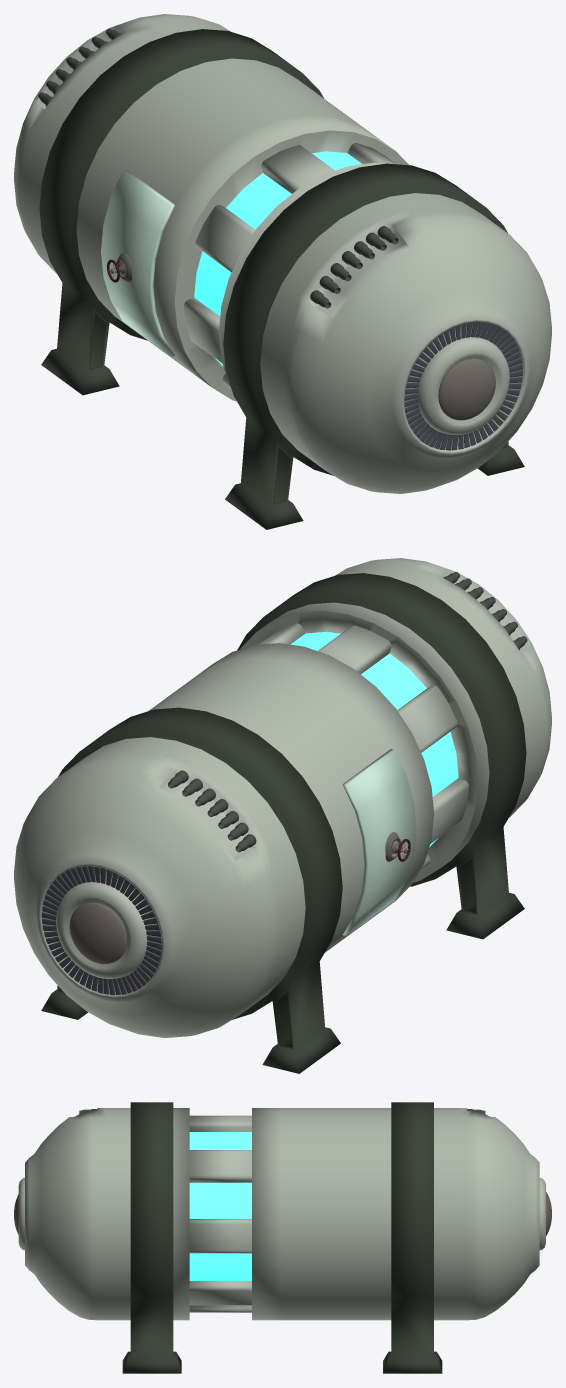
The model's file is ChemicalReactor.fbx.
3 renders of one model, top to bottom at view 1: azimuth 30°, elevation 25°; view 2: azimuth 150°, elevation 25°; view 3: azimuth 270°, elevation 25°, orthographic. The views are drawn at different scales.
Visible parts, largest first — view 1: Cylinder, Cylinder.008, Cylinder.016, Cube.005, Cylinder.015, Sphere.001, Cylinder.014; view 2: Cylinder, Cylinder.008, Cylinder.016, Cube.004, Cylinder.015, Sphere.001, Cylinder.014; view 3: Cylinder, Cylinder.008, Cylinder.015, Sphere.001.
Boxes of the visible parts, left/top/right/bottom form: Cylinder: left=14, top=14, right=551, bottom=493; Cylinder.008: left=39, top=29, right=524, bottom=529; Cylinder.016: left=101, top=169, right=174, bottom=356; Cube.005: left=404, top=322, right=522, bottom=450; Cylinder.015: left=194, top=151, right=362, bottom=366; Sphere.001: left=438, top=358, right=495, bottom=420; Cylinder.014: left=38, top=28, right=398, bottom=308; Cylinder: left=14, top=558, right=551, bottom=1037; Cylinder.008: left=41, top=573, right=526, bottom=1073; Cylinder.016: left=342, top=749, right=416, bottom=935; Cube.004: left=41, top=866, right=161, bottom=995; Cylinder.015: left=290, top=631, right=458, bottom=847; Sphere.001: left=69, top=902, right=127, bottom=964; Cylinder.014: left=168, top=572, right=527, bottom=852; Cylinder: left=18, top=1108, right=545, bottom=1320; Cylinder.008: left=122, top=1102, right=442, bottom=1373; Cylinder.015: left=189, top=1132, right=251, bottom=1280; Sphere.001: left=14, top=1192, right=551, bottom=1235.
Bounding box in the file's own units: 354 × 362 × 818.
